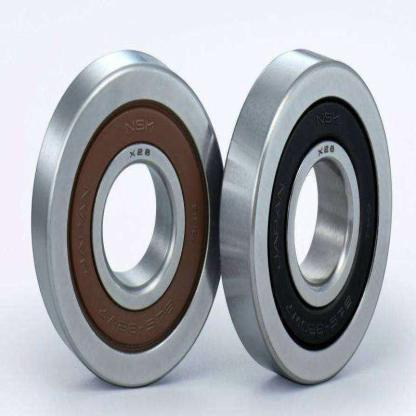FOD: (28, 45, 230, 391), (218, 44, 394, 388)
